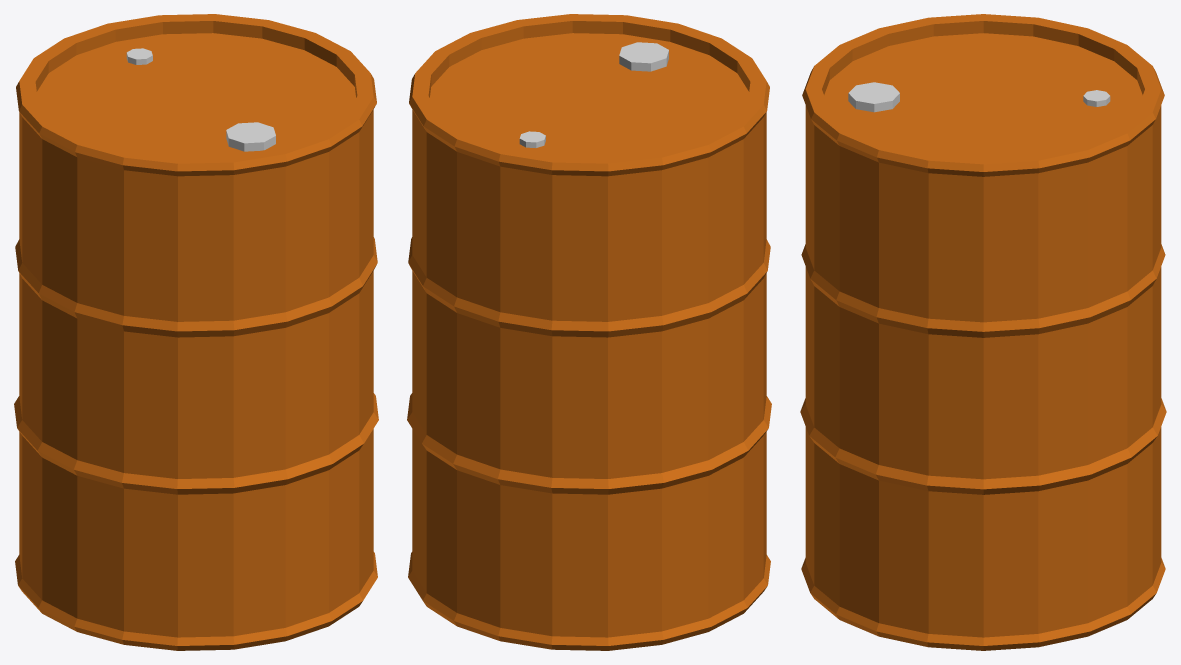
File: drum.glb
3 views of the same model, side by side, from view 1: azimuth 30°, elevation 25°; view 2: azimuth 150°, elevation 25°; view 3: azimuth 270°, elevation 25° (orthographic).
Parts seen in each view (by area): view 1: Oil Drum_0; view 2: Oil Drum_0; view 3: Oil Drum_0.
Boxes of the visible parts, box(x1,y1,x2,y2) form: Oil Drum_0: box(14, 14, 378, 650); Oil Drum_0: box(407, 14, 771, 650); Oil Drum_0: box(800, 14, 1166, 650).
Size of the model in its own units: 0.1633 by 0.2393 by 0.1633.
